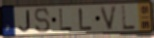J: (18, 9, 32, 34)
L: (121, 5, 138, 32), (78, 7, 94, 31), (58, 8, 74, 32)
S: (34, 6, 52, 34)
V: (99, 5, 119, 32)
